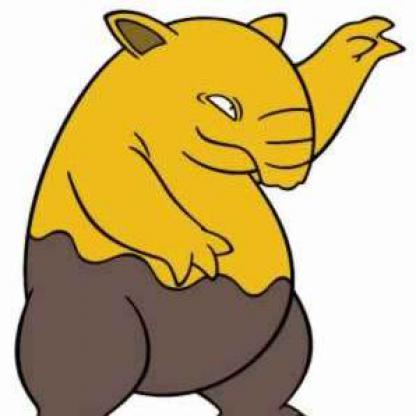Drowzee: (23, 1, 416, 416)
